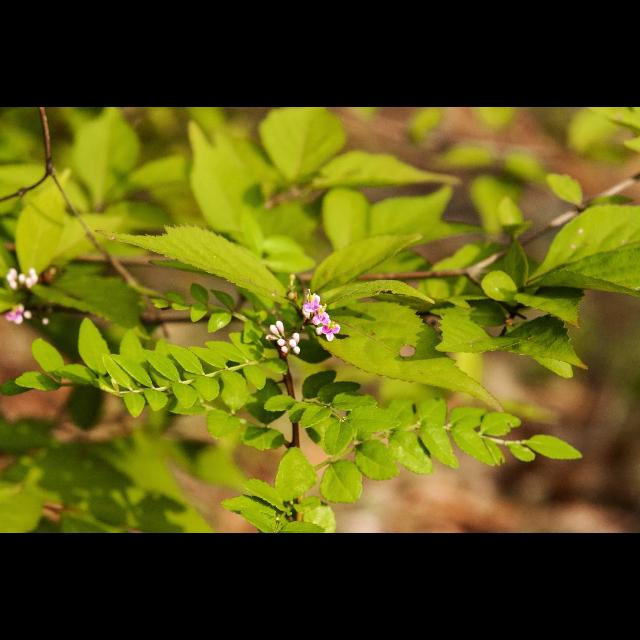Flower: (316, 317, 346, 345), (300, 291, 326, 323), (6, 304, 28, 324)
